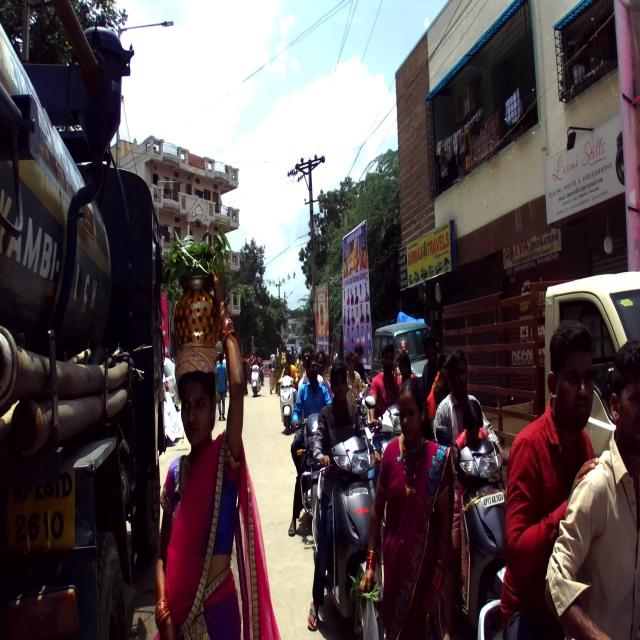scooter: (435, 413, 509, 639), (309, 433, 381, 640)
truck: (0, 1, 166, 640)
